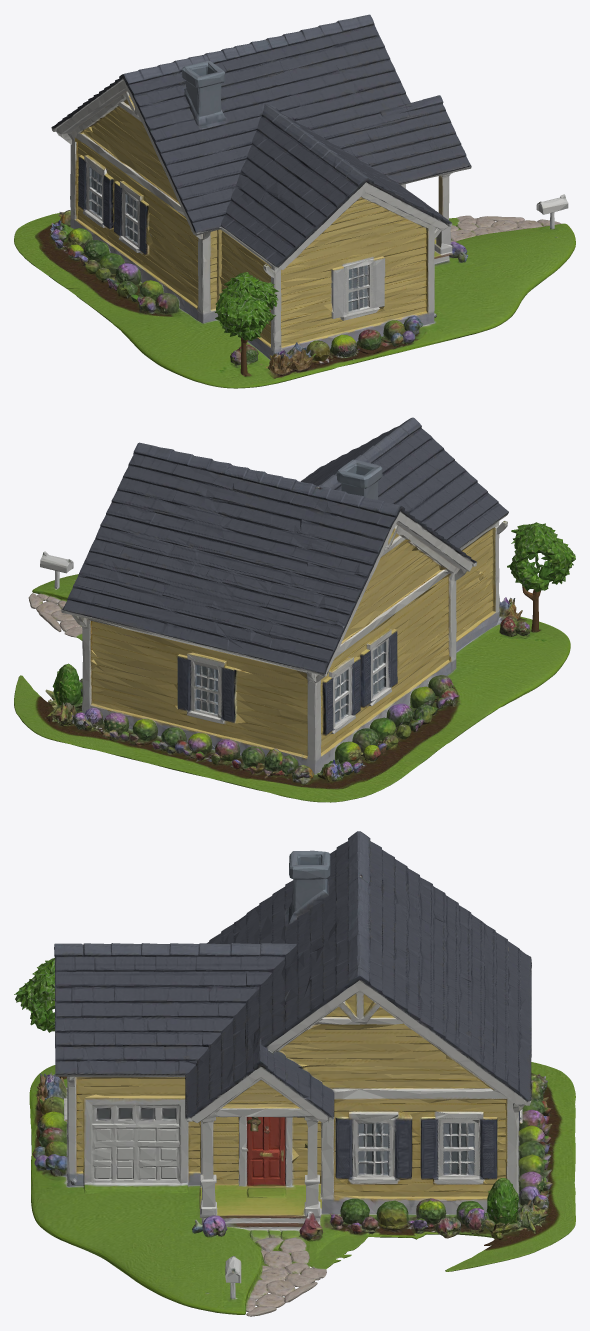
Rendered from house_1storyC_yellow.glb.
3 views of the same model, one above another, from view 1: azimuth 30°, elevation 25°; view 2: azimuth 150°, elevation 25°; view 3: azimuth 270°, elevation 25° (orthographic). The views are drawn at different scales.
Parts seen in each view (by area): view 1: tripo_node_9f40b4b5-5d32-43d0-9f4f-92b27ef0697b; view 2: tripo_node_9f40b4b5-5d32-43d0-9f4f-92b27ef0697b; view 3: tripo_node_9f40b4b5-5d32-43d0-9f4f-92b27ef0697b.
Part boxes in pixels (x1,y1,x2,y2): tripo_node_9f40b4b5-5d32-43d0-9f4f-92b27ef0697b: [14, 14, 575, 388]; tripo_node_9f40b4b5-5d32-43d0-9f4f-92b27ef0697b: [14, 417, 575, 802]; tripo_node_9f40b4b5-5d32-43d0-9f4f-92b27ef0697b: [14, 831, 575, 1316].
Size of the model in its own units: 1 by 0.4712 by 0.9045.
1 material, 1 textured.
